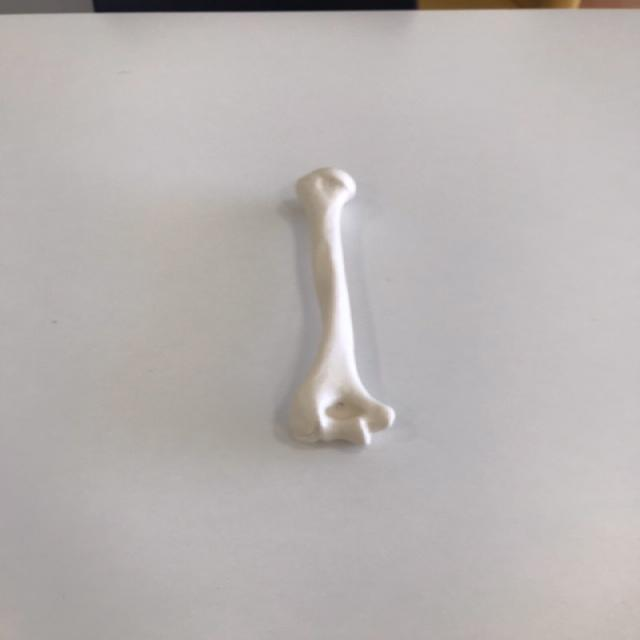bone: (256, 170, 404, 456)
